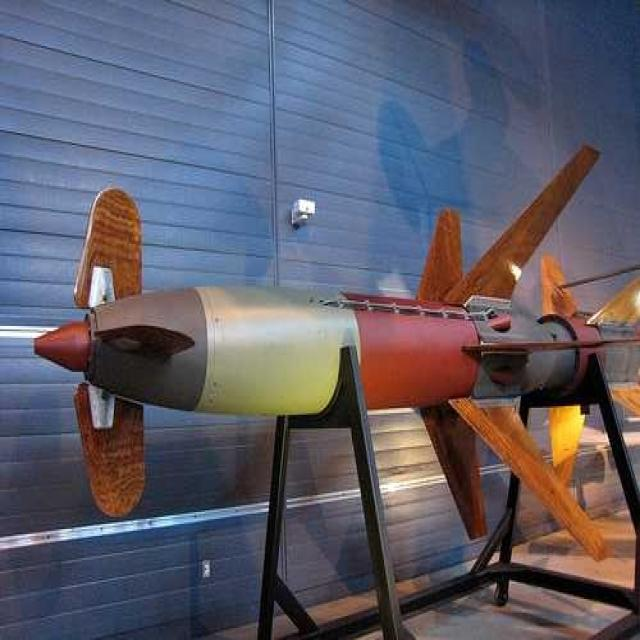missile: (54, 150, 640, 486)
